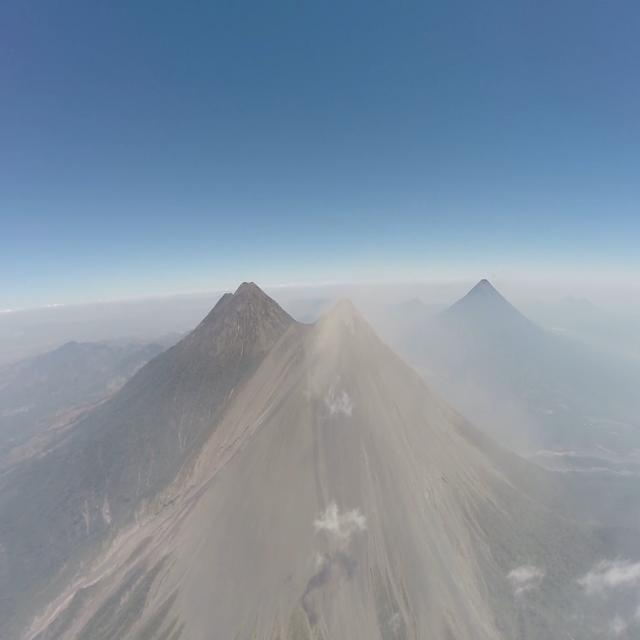Plume: (308, 286, 366, 392)
Summit: (312, 293, 377, 339)
